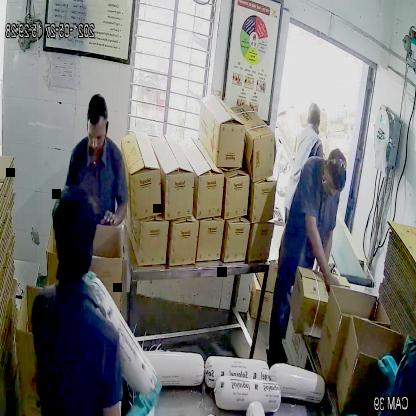no_goggles: (83, 124, 110, 146)
